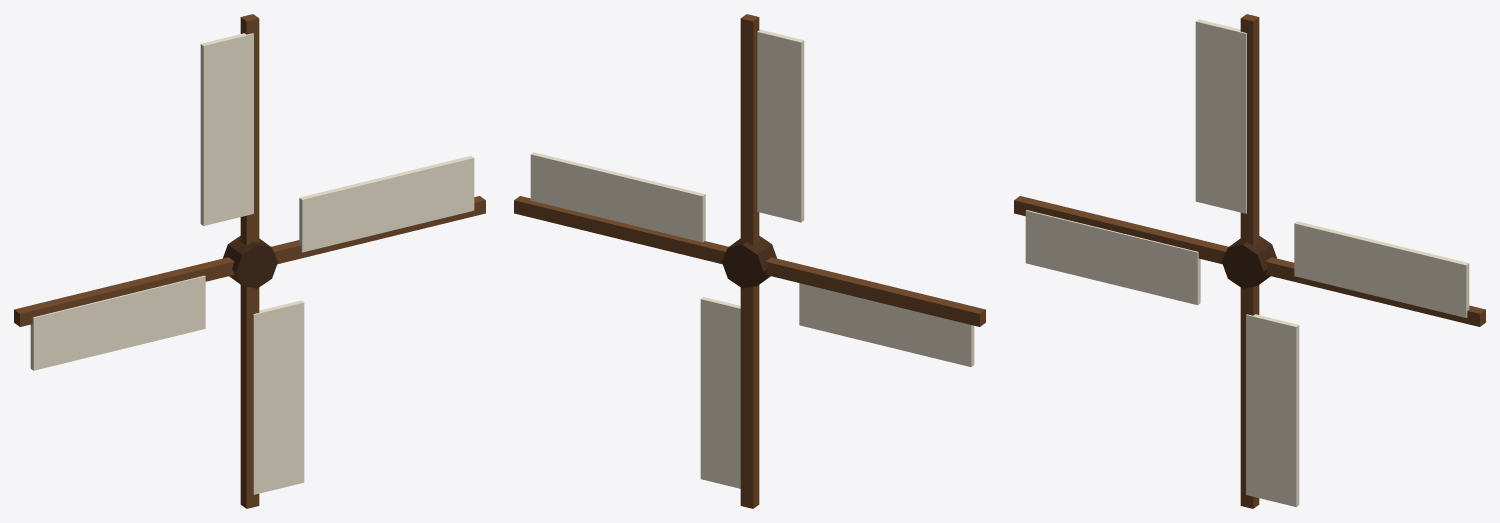
Rendered from windmill_blades.glb.
3 views of the same model, side by side, from view 1: azimuth 30°, elevation 25°; view 2: azimuth 150°, elevation 25°; view 3: azimuth 330°, elevation 25° (orthographic).
Parts seen in each view (by area): view 1: sail_1, sail_0, sail_3, sail_2, spar_2, spar_3, spar_1, center_hub, spar_0; view 2: sail_1, sail_0, sail_2, sail_3, spar_3, spar_2, spar_1, spar_0, center_hub; view 3: sail_3, sail_0, sail_1, sail_2, spar_1, spar_2, spar_0, center_hub, spar_3.
Boxes of the visible parts, x1,y1,x2,y2 form: sail_1: (200, 33, 253, 225); sail_0: (299, 156, 474, 252); sail_3: (253, 300, 304, 494); sail_2: (30, 275, 205, 370); spar_2: (14, 257, 234, 326); spar_3: (240, 285, 259, 508); spar_1: (240, 14, 259, 245); center_hub: (223, 236, 277, 288); spar_0: (271, 196, 485, 264); sail_1: (757, 29, 804, 222); sail_0: (530, 152, 705, 242); sail_2: (799, 283, 974, 366); sail_3: (700, 297, 740, 488); spar_3: (740, 285, 759, 508); spar_2: (765, 257, 985, 326); spar_1: (740, 14, 759, 245); spar_0: (514, 196, 728, 264); center_hub: (722, 236, 776, 288); sail_3: (1246, 314, 1299, 507); sail_0: (1294, 221, 1469, 317); sail_1: (1195, 19, 1246, 213); sail_2: (1025, 210, 1200, 305); spar_1: (1240, 14, 1259, 245); spar_2: (1014, 196, 1228, 264); spar_0: (1265, 257, 1485, 326); center_hub: (1222, 236, 1276, 288); spar_3: (1240, 285, 1259, 508).
Size of the model in its own units: 2.22 by 2.22 by 0.12.
